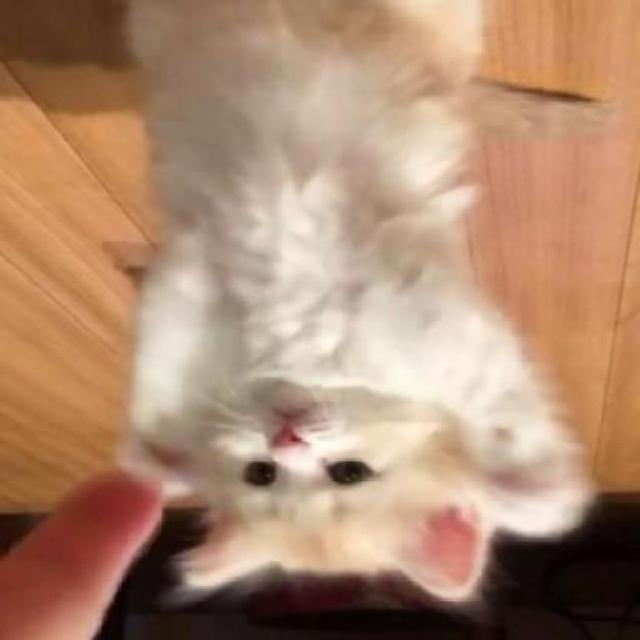cat: (83, 0, 594, 615)
